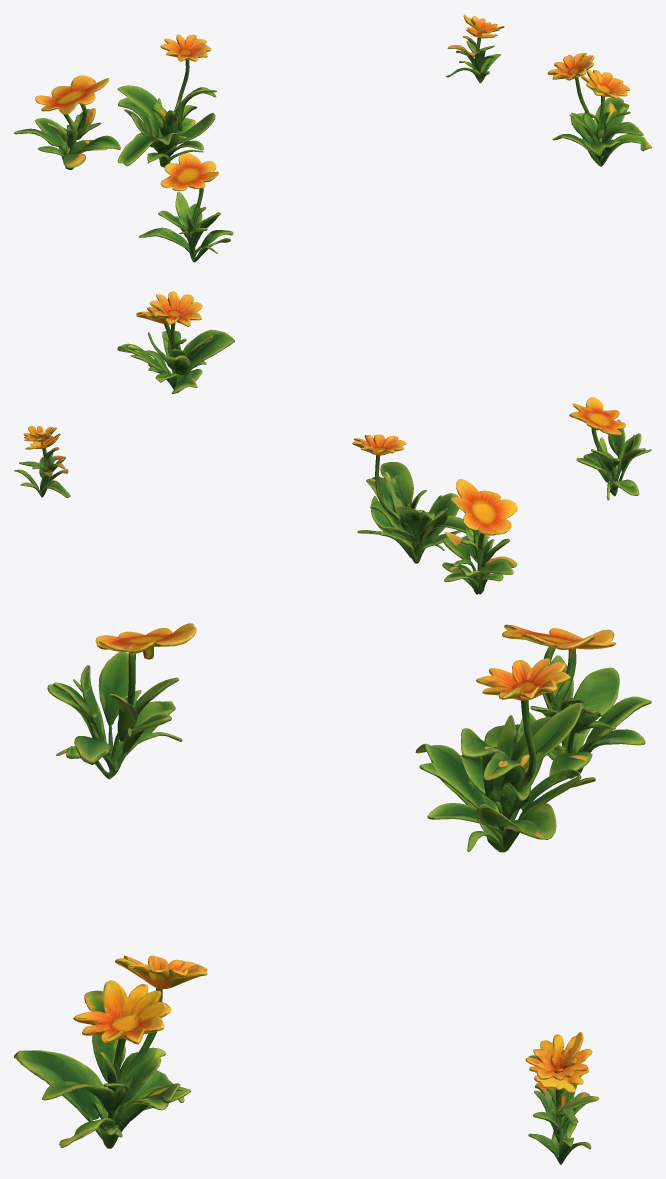
The model's file is meshy-1795722220280.glb.
The picture shows the model from 3 angles, top to bottom: view 1: azimuth 30°, elevation 25°; view 2: azimuth 150°, elevation 25°; view 3: azimuth 270°, elevation 25°; orthographic projection. The views are drawn at different scales.
Size of the model in its own units: 1.9 by 0.449 by 1.17.
1 material, 1 textured.
